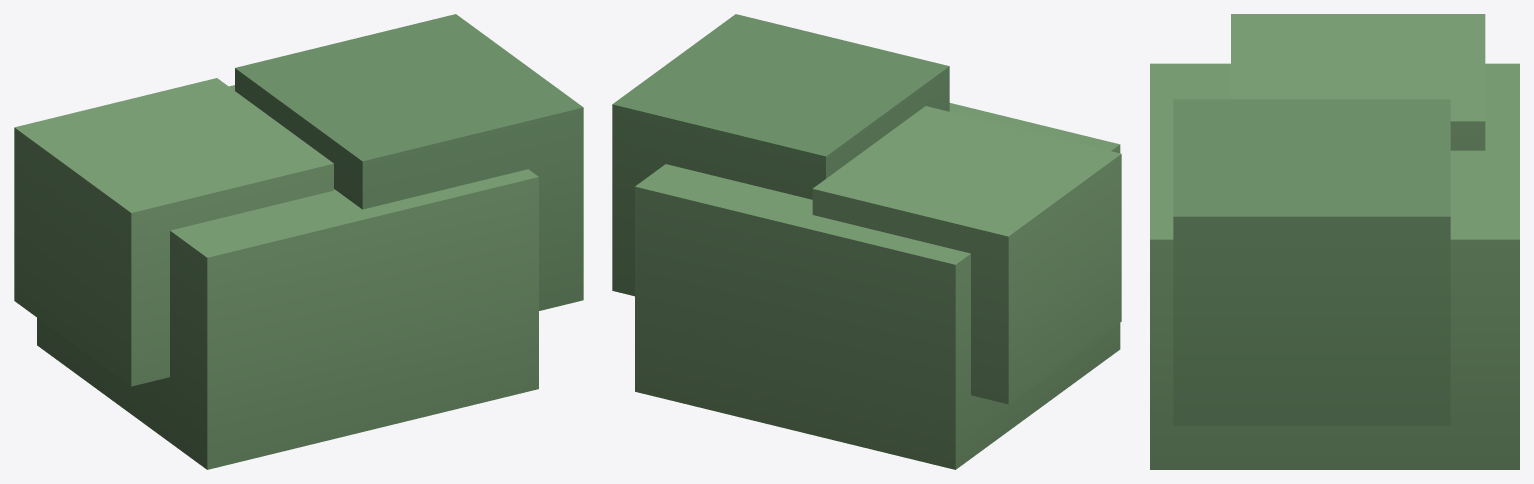
File: bush.glb
The picture shows the model from 3 angles, left to right: view 1: azimuth 30°, elevation 25°; view 2: azimuth 150°, elevation 25°; view 3: azimuth 270°, elevation 25°; orthographic projection. The views are drawn at different scales.
Parts seen in each view (by area): view 1: root; view 2: root; view 3: root.
Part boxes in pixels (<box>): root: <box>14,14,583,469</box>; root: <box>612,14,1121,469</box>; root: <box>1150,14,1519,469</box>.
Size of the model in its own units: 1.16 by 0.675 by 0.8.
